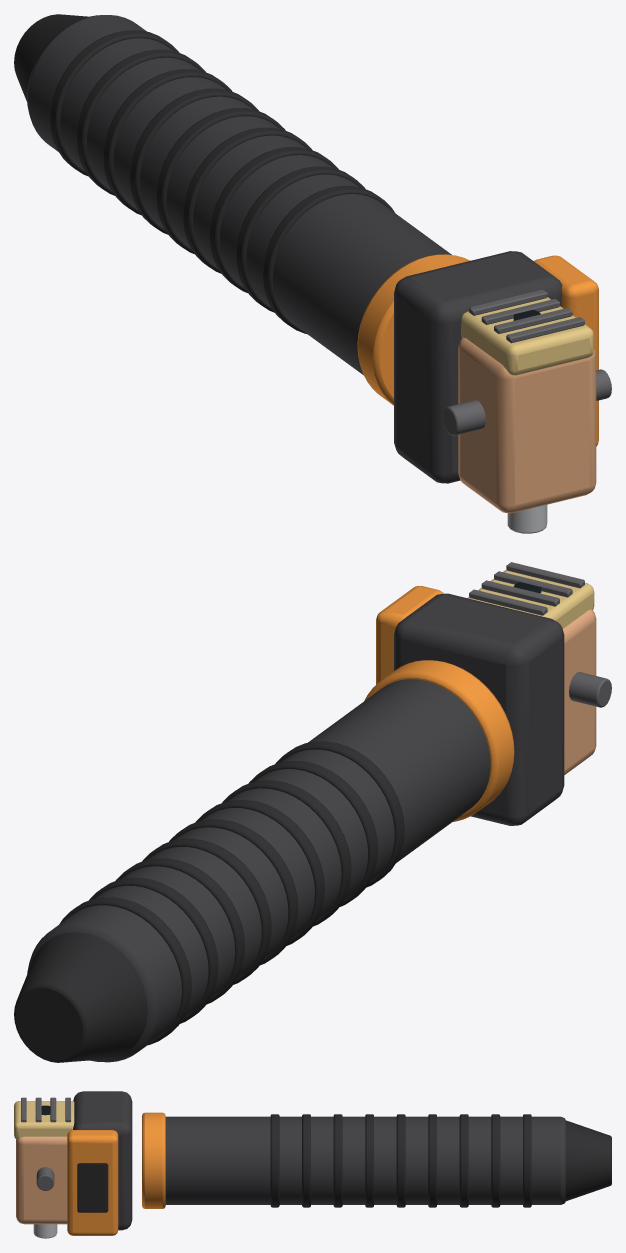
The model's file is electrode_holder.glb.
The picture shows the model from 3 angles, top to bottom: view 1: azimuth 30°, elevation 25°; view 2: azimuth 150°, elevation 25°; view 3: azimuth 270°, elevation 25°; orthographic projection. The views are drawn at different scales.
Visible parts, largest first — view 1: electrode_holder; view 2: electrode_holder; view 3: electrode_holder.
Part boxes in pixels (bbox=[...]): electrode_holder: bbox=[14, 14, 611, 533]; electrode_holder: bbox=[14, 562, 611, 1062]; electrode_holder: bbox=[14, 1091, 611, 1238].
Bounding box in the file's own units: 0.0598 × 0.071 × 0.3035.
